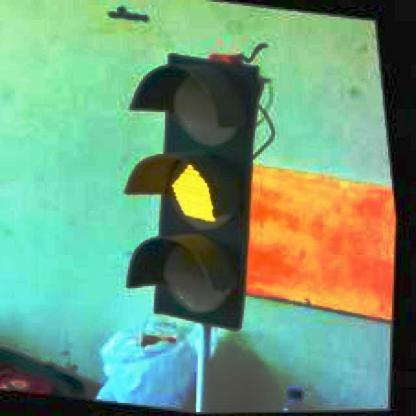Traffic Light -Yellow-: (102, 48, 287, 330)
